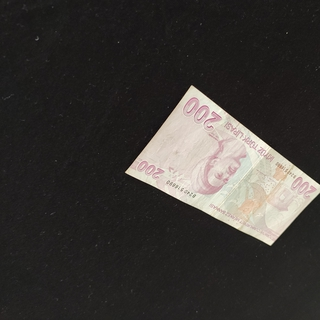200TLBack: (124, 84, 320, 246)
